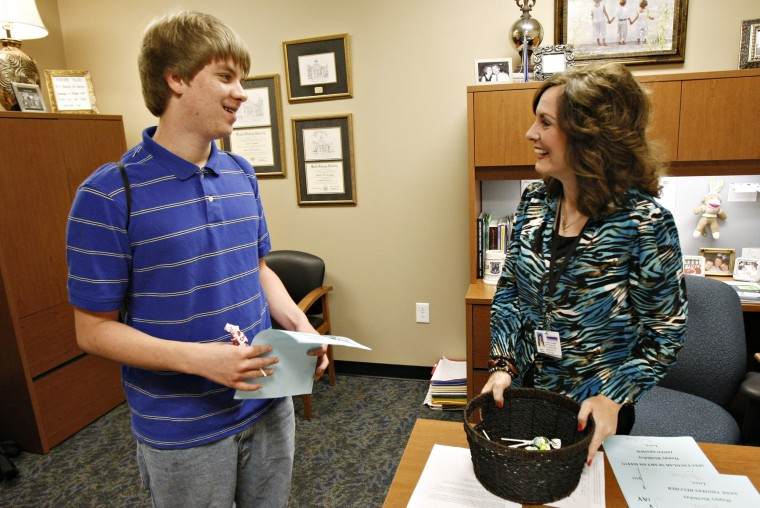Person: (90, 17, 346, 508), (468, 80, 690, 472)
